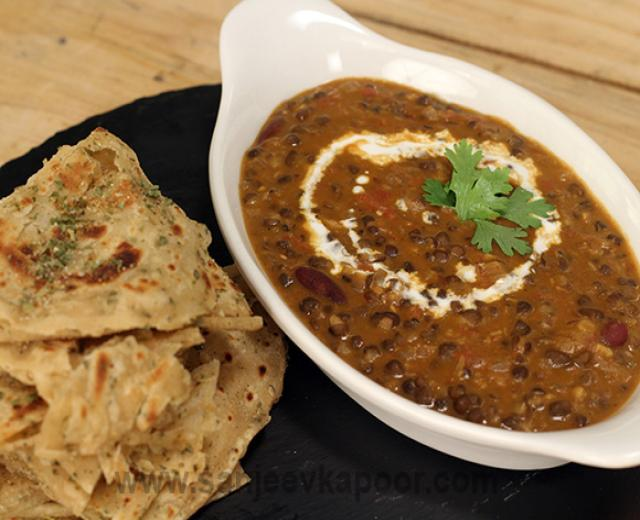dal makhni: (206, 0, 634, 468)
